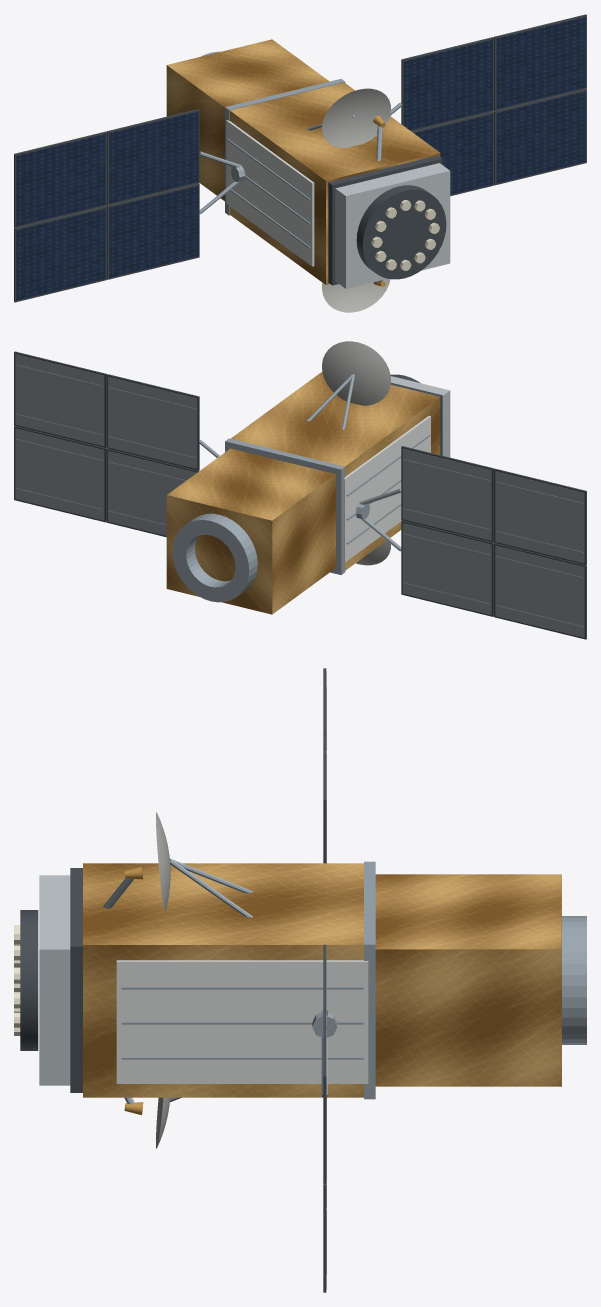
Rendered from ref-kupon-25045.glb.
3 views of the same model, one above another, from view 1: azimuth 30°, elevation 25°; view 2: azimuth 150°, elevation 25°; view 3: azimuth 270°, elevation 25° (orthographic). The views are drawn at different scales.
Parts seen in each view (by area): view 1: Solar cell panel (×8), Payload module, Service module, Radiator face, Solar panel frame (×8), Antenna equipment shelf, Planar antenna aperture, Communications reflector (×2), Earth-facing deck, Module interface; view 2: Rear array substrate (×8), Service module, Payload module, Solar panel frame (×8), Radiator face, Launch adapter ring, Communications reflector (×2), Module interface, Antenna equipment shelf; view 3: Service module, Payload module, Radiator face, Antenna equipment shelf, Launch adapter ring, Earth-facing deck, Planar antenna aperture, Module interface, Communications reflector.
Boxes of the visible parts, x1,y1,x2,y2 form: Solar cell panel (×8): [16, 17, 585, 300]; Payload module: [229, 82, 440, 284]; Service module: [166, 39, 329, 201]; Radiator face: [226, 120, 314, 266]; Solar panel frame (×8): [14, 14, 586, 302]; Antenna equipment shelf: [335, 163, 450, 288]; Planar antenna aperture: [356, 185, 446, 279]; Communications reflector (×2): [322, 88, 390, 312]; Earth-facing deck: [328, 155, 442, 285]; Module interface: [225, 79, 345, 215]; Rear array substrate (×8): [15, 354, 584, 637]; Service module: [166, 448, 335, 614]; Payload module: [230, 372, 440, 570]; Solar panel frame (×8): [14, 351, 586, 639]; Radiator face: [343, 416, 430, 562]; Launch adapter ring: [172, 513, 257, 602]; Communications reflector (×2): [322, 341, 390, 565]; Module interface: [225, 438, 345, 574]; Antenna equipment shelf: [391, 376, 450, 457]; Service module: [375, 874, 561, 1086]; Payload module: [83, 863, 363, 1097]; Radiator face: [116, 960, 368, 1083]; Antenna equipment shelf: [39, 875, 70, 1085]; Launch adapter ring: [562, 916, 586, 1044]; Earth-facing deck: [70, 868, 82, 1092]; Planar antenna aperture: [20, 910, 38, 1050]; Module interface: [364, 861, 375, 1099]; Communications reflector: [156, 812, 170, 911].
Size of the model in its own units: 9.98 by 3.7 by 5.92.
Materials: 10 (2 with a texture image).
